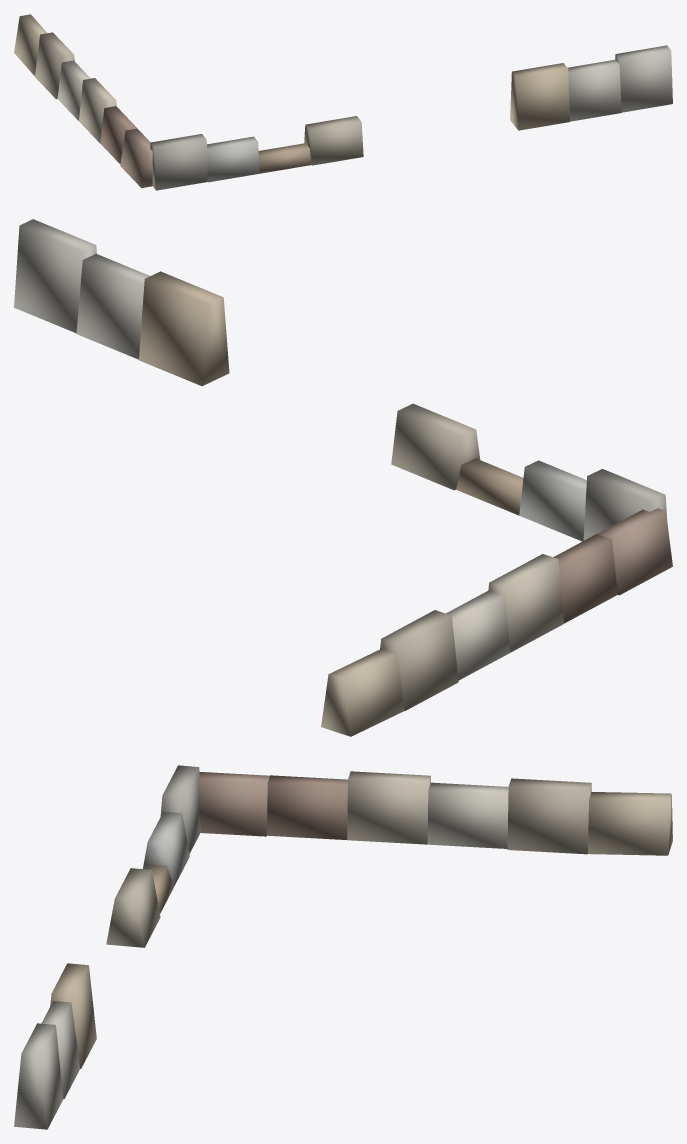
The model's file is farm_-27_-20_collision.glb.
3 renders of one model, top to bottom at view 1: azimuth 30°, elevation 25°; view 2: azimuth 150°, elevation 25°; view 3: azimuth 270°, elevation 25°, orthographic. The views are drawn at different scales.
Visible parts, largest first — view 1: geometry_0; view 2: geometry_0; view 3: geometry_0.
Boxes of the visible parts, left/top/right/bottom form: geometry_0: left=14, top=14, right=672, bottom=190; geometry_0: left=14, top=219, right=672, bottom=736; geometry_0: left=14, top=765, right=672, bottom=1129.
Size of the model in its own units: 14.85 by 1.97 by 12.42.
